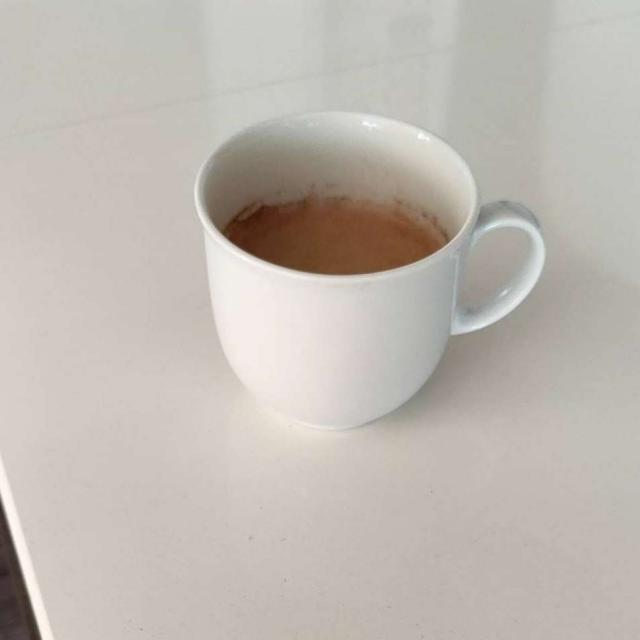espresso-with-caffeine: (239, 190, 427, 267)
